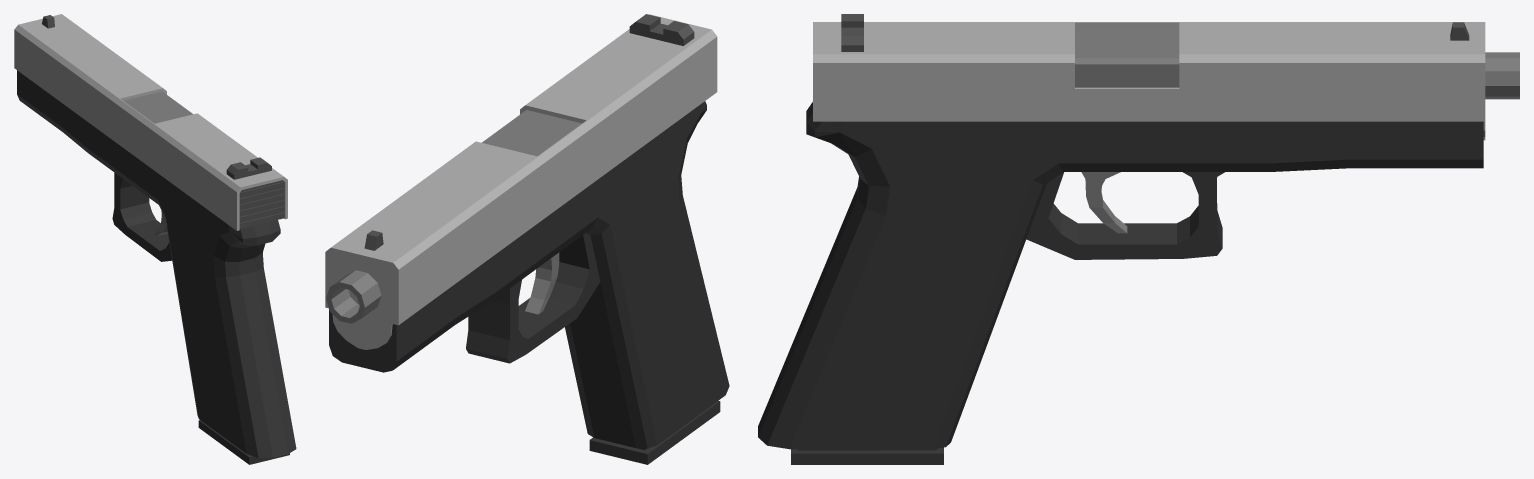
File: Glock_17.fbx
3 views of the same model, side by side, from view 1: azimuth 30°, elevation 25°; view 2: azimuth 150°, elevation 25°; view 3: azimuth 270°, elevation 25° (orthographic). The views are drawn at different scales.
Parts seen in each view (by area): view 1: G17, Slide, Magazin; view 2: G17, Slide, Magazin, Trigger; view 3: G17, Slide, Magazin, Trigger.
Boxes of the visible parts, bbox=[...] form: G17: bbox=[17, 70, 296, 458]; Slide: bbox=[14, 14, 287, 230]; Magazin: bbox=[198, 420, 289, 464]; G17: bbox=[329, 101, 729, 448]; Slide: bbox=[325, 14, 717, 349]; Magazin: bbox=[589, 401, 720, 464]; Trigger: bbox=[525, 252, 559, 314]; G17: bbox=[758, 27, 1483, 449]; Slide: bbox=[813, 14, 1519, 140]; Magazin: bbox=[791, 447, 943, 464]; Trigger: bbox=[1081, 172, 1127, 233].
Size of the model in its own units: 2.69 by 14.15 by 22.99.
Materials: 1 (1 with a texture image).
